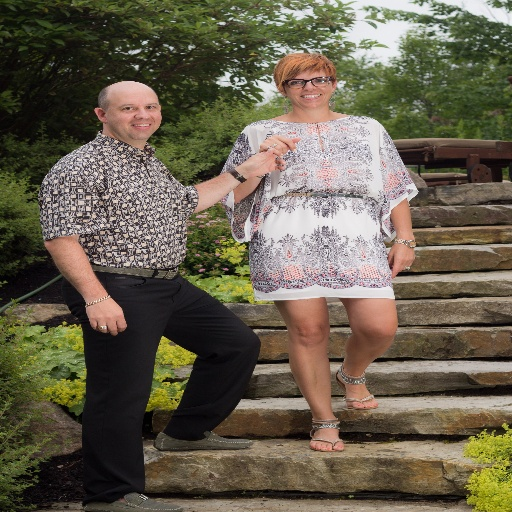hand: (231, 145, 294, 182), (83, 294, 129, 337), (255, 132, 301, 159), (385, 243, 415, 279)
